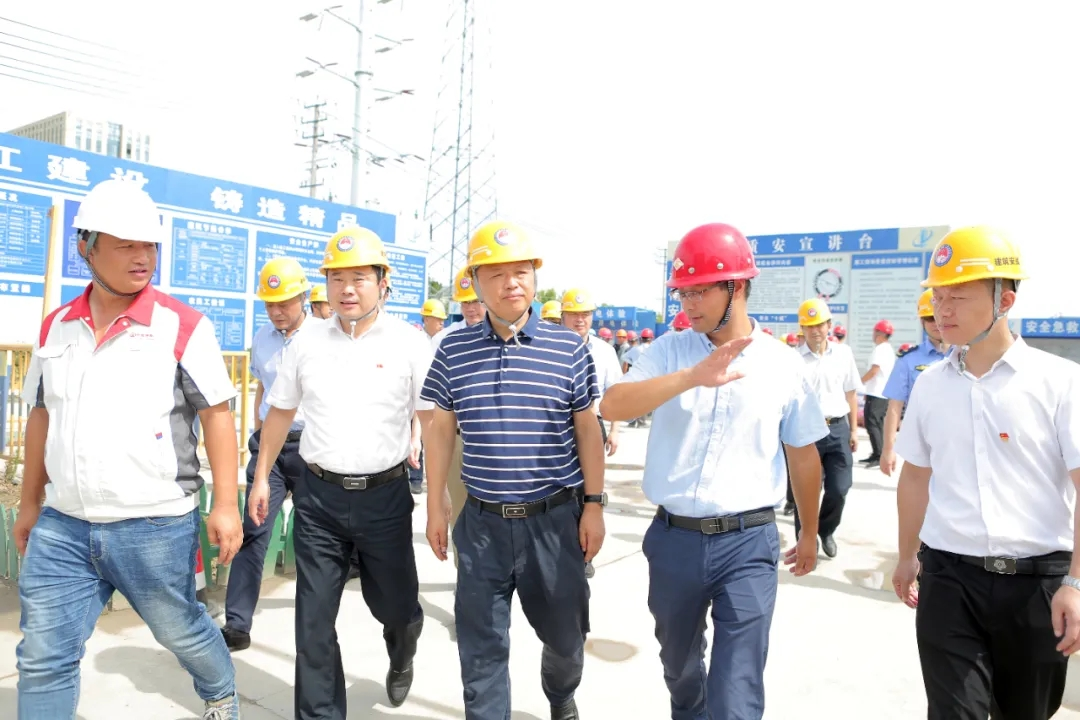safetyhat: (23, 147, 242, 718), (863, 214, 1080, 720), (629, 207, 837, 709), (432, 198, 605, 688), (262, 204, 427, 694)
